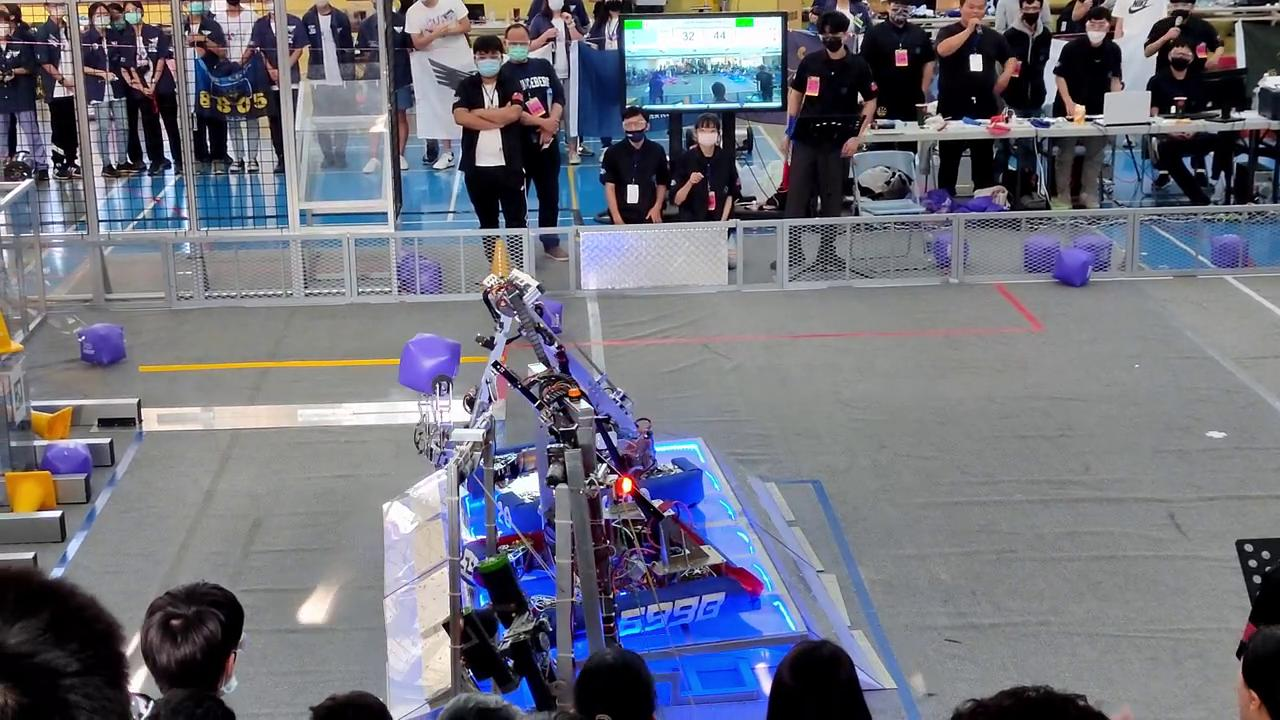robot: (453, 362, 758, 644), (416, 269, 703, 532)
